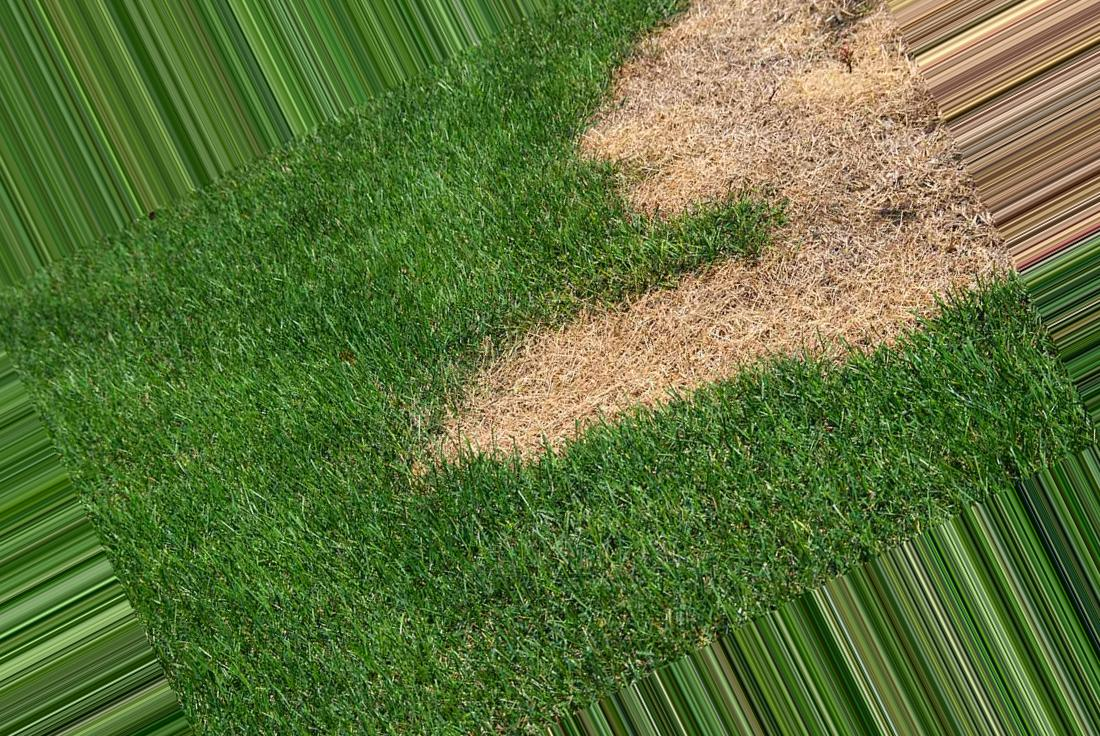patch: (638, 24, 844, 204), (769, 165, 956, 300), (473, 343, 640, 419), (646, 289, 764, 363)
